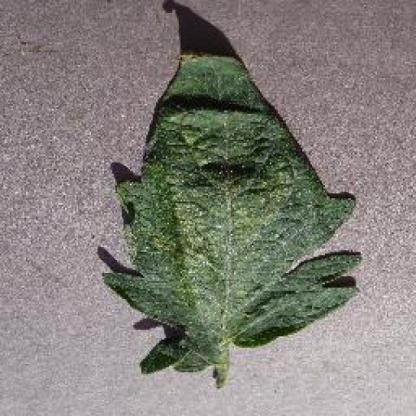Tomato_Spider_Mites: (105, 53, 361, 371)
